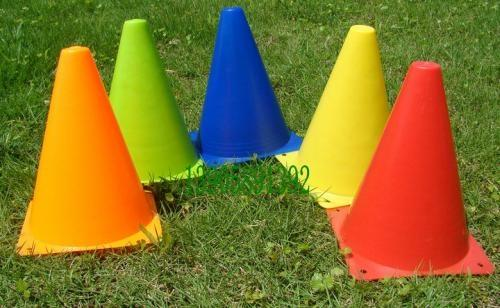cone_barrel: (339, 64, 485, 279), (10, 47, 158, 256), (289, 24, 390, 199), (189, 7, 296, 163), (107, 20, 204, 192)
